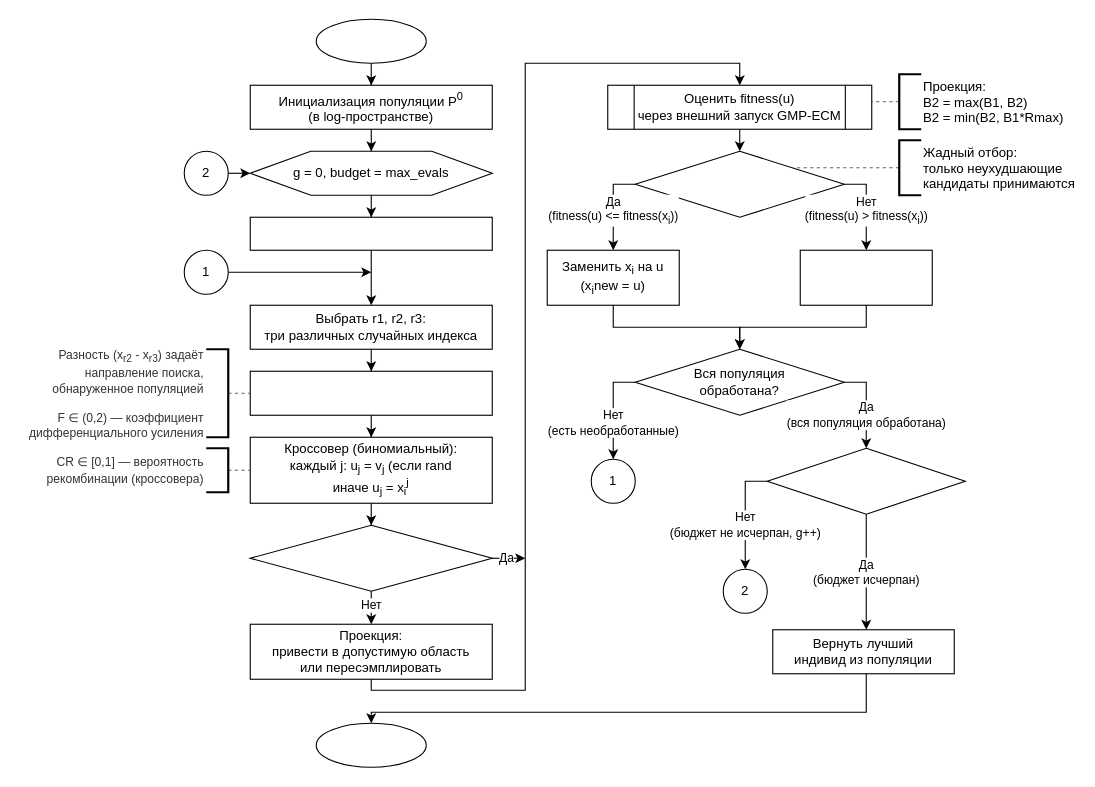
Image size: 1095x787. Some labels were removed from this diagram. Here are the shapes that lost their labels. From the top down, the box of each, then its label:
(315, 18, 426, 63): Начало
(634, 150, 844, 217): fitness(u) <= fitness(x i )?
(249, 216, 492, 250): Для каждого xi из Pg
(799, 249, 932, 305): Оставить x i (x i new = x i )
(249, 370, 492, 415): Мутация (DE/rand/1): v = x r1 + F * (x r2 - x r3 )
(766, 447, 965, 514): Бюджет исчерпан? (достигнуто max_evals)
(249, 524, 492, 591): Проверка ограничений (B2 >= B1, B2/B1 <= R max )
(315, 722, 426, 767): Конец
